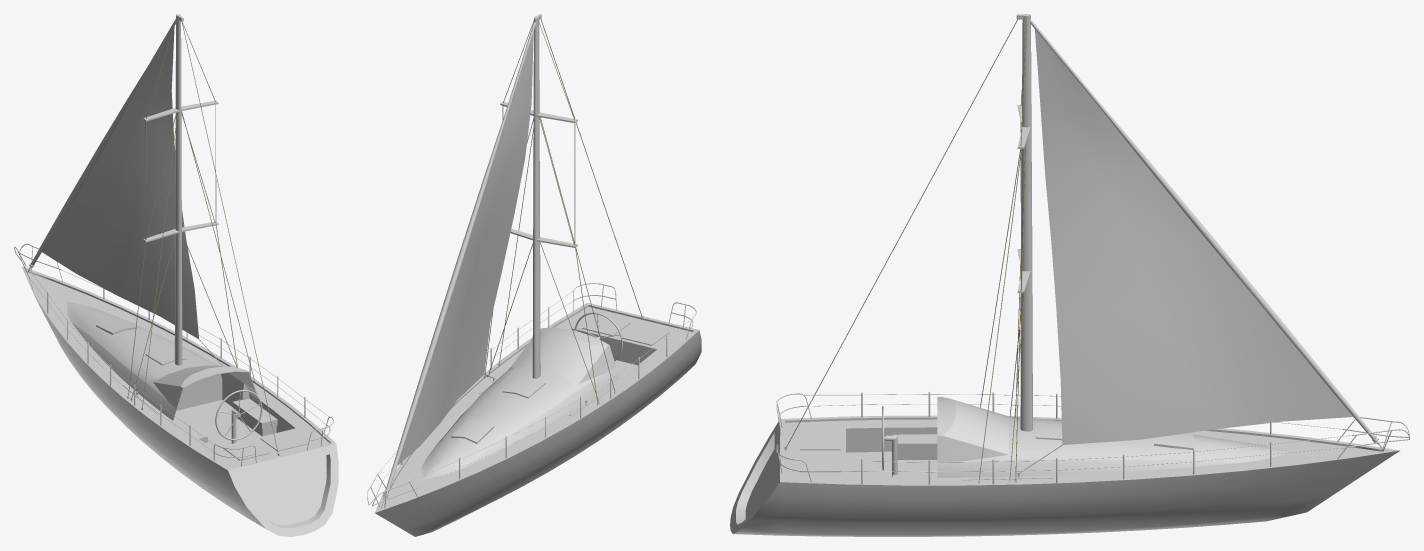
Rendered from boat+of+my+uncle.fbx.
3 renders of one model, left to right at view 1: azimuth 30°, elevation 25°; view 2: azimuth 150°, elevation 25°; view 3: azimuth 270°, elevation 25°, orthographic. The views are drawn at different scales.
Visible parts, largest first — view 1: boat+of+my+uncle, boat+of+my+uncle.002, boat+of+my+uncle.001, boat+of+my+uncle.004, boat+of+my+uncle.003; view 2: boat+of+my+uncle, boat+of+my+uncle.002, boat+of+my+uncle.001, boat+of+my+uncle.004; view 3: boat+of+my+uncle, boat+of+my+uncle.002, boat+of+my+uncle.004, boat+of+my+uncle.001.
Part boxes in pixels (x1,y1,x2,y2): boat+of+my+uncle: [21, 14, 338, 536]; boat+of+my+uncle.002: [42, 25, 198, 338]; boat+of+my+uncle.001: [128, 17, 278, 452]; boat+of+my+uncle.004: [14, 243, 333, 466]; boat+of+my+uncle.003: [215, 390, 262, 440]; boat+of+my+uncle: [375, 14, 701, 536]; boat+of+my+uncle.002: [397, 33, 533, 465]; boat+of+my+uncle.001: [484, 19, 641, 402]; boat+of+my+uncle.004: [367, 283, 696, 507]; boat+of+my+uncle: [730, 14, 1400, 536]; boat+of+my+uncle.002: [1035, 29, 1352, 444]; boat+of+my+uncle.004: [776, 391, 1409, 484]; boat+of+my+uncle.001: [786, 18, 1062, 480].
Size of the model in its own units: 3.42 by 11.59 by 14.
